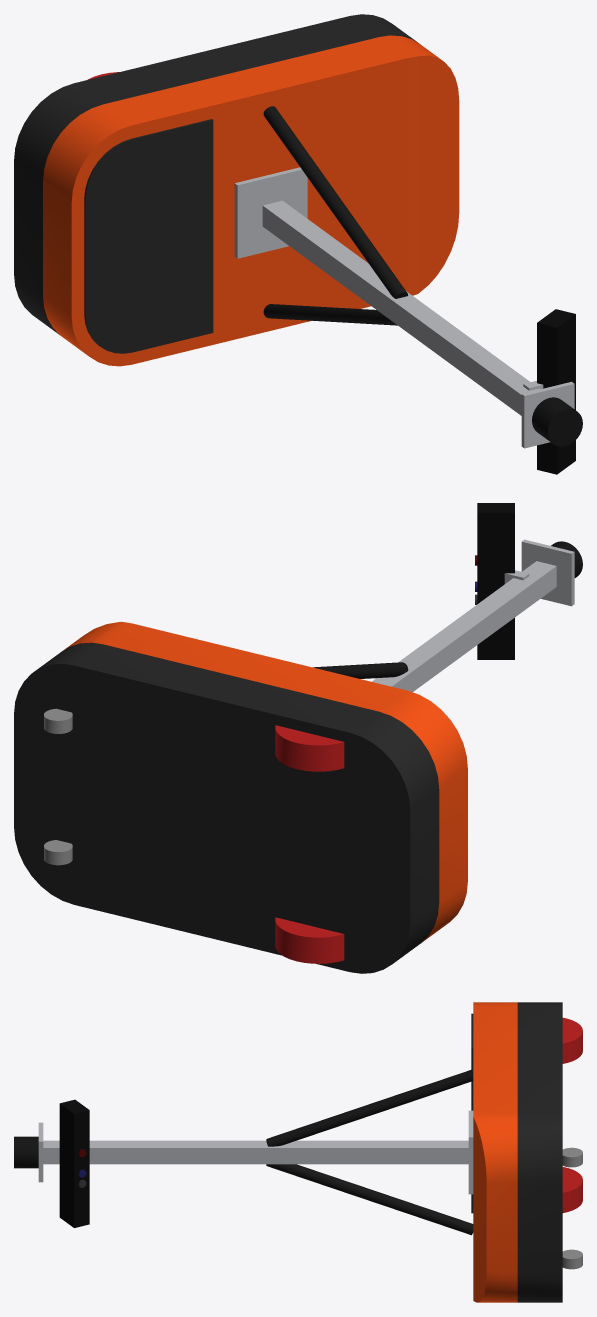
The model's file is amr.obj.
The picture shows the model from 3 angles, top to bottom: view 1: azimuth 30°, elevation 25°; view 2: azimuth 150°, elevation 25°; view 3: azimuth 270°, elevation 25°; orthographic projection. The views are drawn at different scales.
Bounding box in the file's own units: 0.79 × 0.456 × 1.26.
